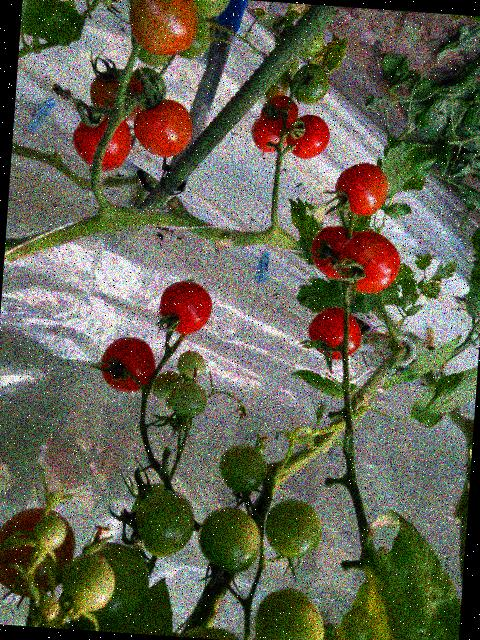l_fully_ripened: (335, 228, 401, 295), (70, 110, 134, 173), (98, 334, 157, 395), (305, 305, 364, 361), (333, 160, 390, 217), (157, 278, 213, 335), (309, 223, 357, 280), (285, 112, 330, 160), (249, 115, 290, 153), (259, 93, 299, 124)
l_green: (69, 539, 151, 634), (195, 503, 263, 573), (133, 487, 196, 558), (253, 585, 327, 640), (262, 497, 324, 559), (60, 552, 117, 614), (217, 442, 269, 494), (288, 61, 331, 107), (128, 29, 175, 68), (129, 66, 168, 111), (175, 15, 212, 61), (167, 379, 208, 417), (32, 512, 68, 550), (150, 369, 183, 401), (180, 0, 232, 20), (262, 66, 292, 100), (181, 625, 247, 640), (175, 348, 206, 379), (298, 28, 324, 60), (37, 596, 59, 620)
l_half_ripened: (0, 504, 77, 600), (126, 0, 200, 57), (130, 97, 195, 159), (87, 67, 146, 123)
